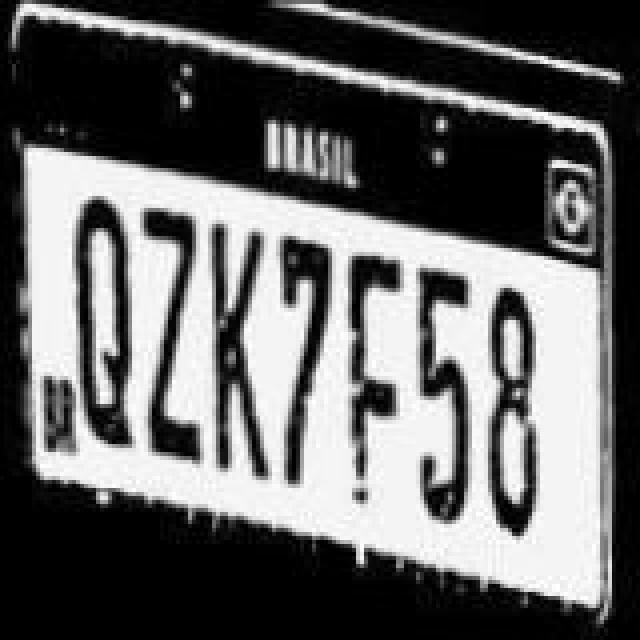5: (412, 268, 468, 524)
7: (278, 238, 334, 486)
8: (484, 288, 540, 540)
F: (348, 254, 408, 502)
K: (206, 224, 270, 480)
Q: (70, 194, 134, 446)
Z: (138, 208, 202, 460)
